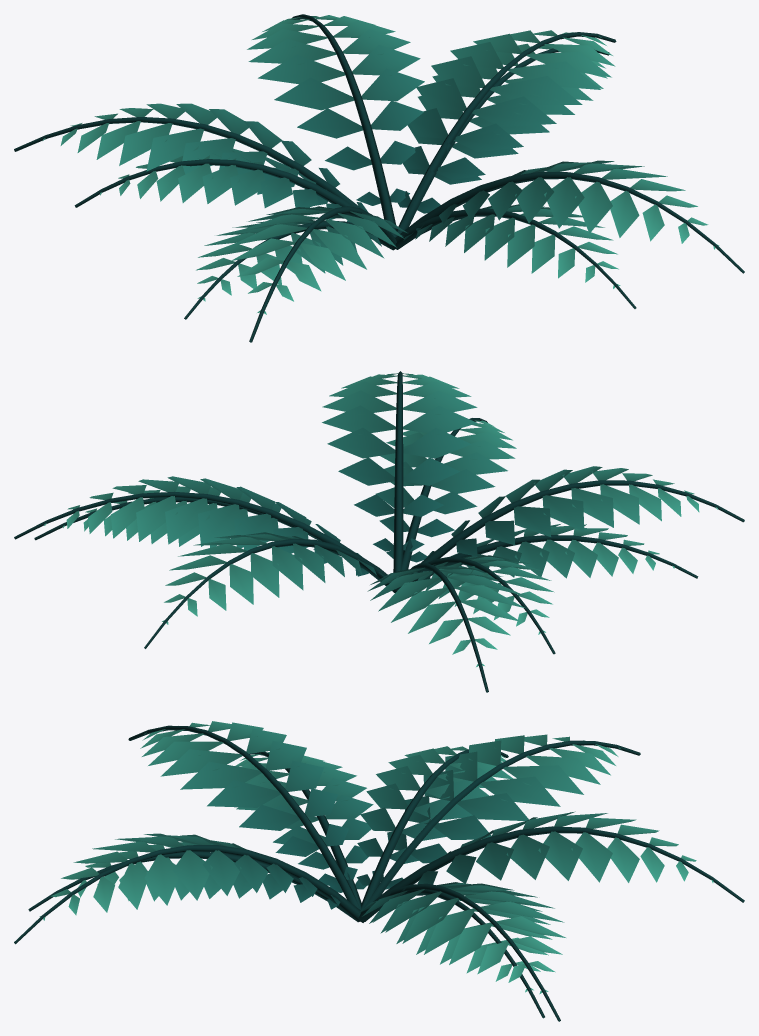
The model's file is fern_teal.glb.
3 views of the same model, one above another, from view 1: azimuth 30°, elevation 25°; view 2: azimuth 150°, elevation 25°; view 3: azimuth 270°, elevation 25° (orthographic). The views are drawn at different scales.
Visible parts, largest first — view 1: fern_teal; view 2: fern_teal; view 3: fern_teal.
Boxes of the visible parts, left/top/right/bottom form: fern_teal: left=14, top=14, right=744, bottom=342; fern_teal: left=14, top=371, right=744, bottom=692; fern_teal: left=14, top=721, right=744, bottom=1021.
Size of the model in its own units: 1.2 by 0.2381 by 1.31.
